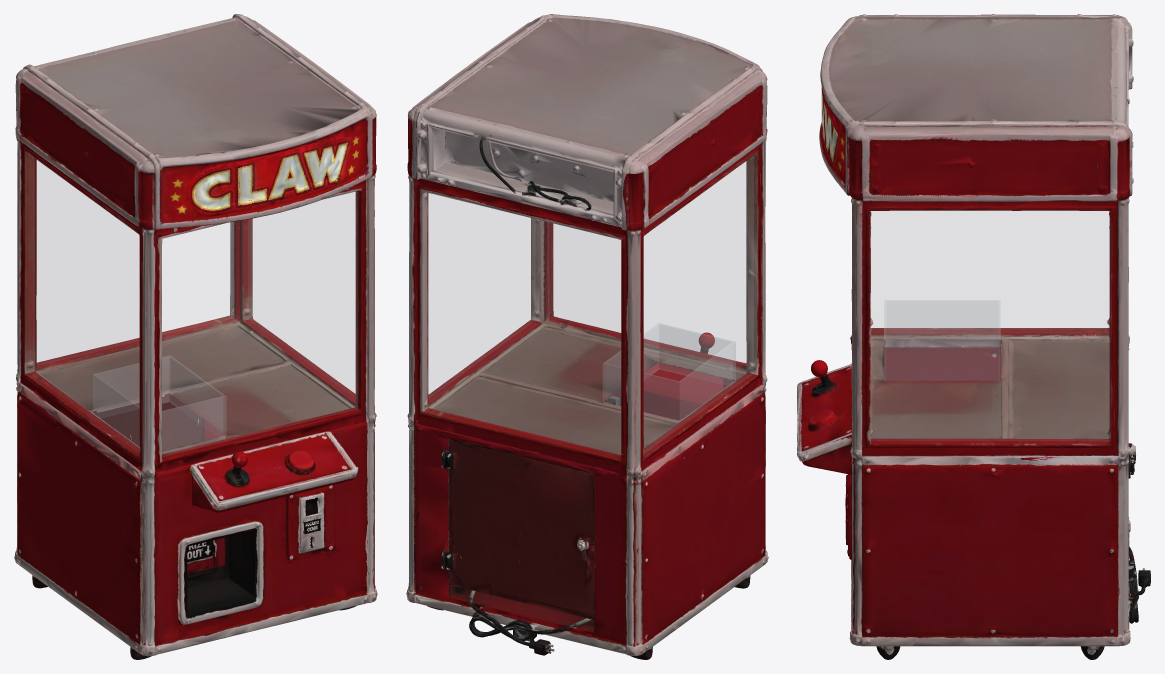
Rendered from cabinet.min.glb.
The picture shows the model from 3 angles, left to right: view 1: azimuth 30°, elevation 25°; view 2: azimuth 150°, elevation 25°; view 3: azimuth 270°, elevation 25°; orthographic projection. The views are drawn at different scales.
Visible parts, largest first — view 1: vidrio_frente, tripo_part_2, tripo_part_1, vidrio_izquierda, tripo_part_10, tripo_part_4, tripo_part_8, tripo_part_34, vidrio_buzon, tripo_part_31, tripo_part_18, tripo_part_33 (+26 smaller); view 2: vidrio_atras, tripo_part_1, tripo_part_2, vidrio_izquierda, tripo_part_25, tripo_part_8, vidrio_buzon, tripo_part_4, tripo_part_34, tripo_part_5, tripo_part_18, tripo_part_70 (+30 smaller); view 3: tripo_part_6, vidrio_derecha, tripo_part_2, tripo_part_11, tripo_part_14, vidrio_buzon, tripo_part_34, tripo_part_18, tripo_part_1, tripo_part_31, tripo_part_0, tripo_part_28 (+15 smaller).
Part boxes in pixels (x1,y1,x2,y2): vidrio_frente: (162, 191, 357, 456); tripo_part_2: (37, 19, 372, 230); tripo_part_1: (15, 138, 158, 646); vidrio_izquierda: (29, 155, 138, 452); tripo_part_10: (155, 421, 368, 644); tripo_part_4: (21, 142, 367, 472); tripo_part_8: (15, 67, 160, 230); tripo_part_34: (39, 325, 282, 399); vidrio_buzon: (93, 355, 226, 450); tripo_part_31: (191, 432, 358, 512); tripo_part_18: (162, 365, 350, 454); tripo_part_33: (179, 520, 264, 624); vidrio_atras: (427, 193, 620, 455); tripo_part_1: (619, 230, 767, 646); tripo_part_2: (428, 14, 759, 155); vidrio_izquierda: (644, 156, 753, 452); tripo_part_25: (449, 447, 602, 619); tripo_part_8: (628, 66, 767, 231); vidrio_buzon: (603, 323, 735, 419); tripo_part_4: (543, 144, 762, 471); tripo_part_34: (433, 379, 659, 454); tripo_part_5: (415, 424, 602, 626); tripo_part_18: (483, 324, 744, 401); tripo_part_70: (451, 466, 521, 572); tripo_part_6: (850, 446, 1119, 637); vidrio_derecha: (871, 211, 1108, 440); tripo_part_2: (819, 14, 1114, 195); tripo_part_11: (846, 126, 1113, 200); tripo_part_14: (851, 198, 1129, 635); vidrio_buzon: (884, 300, 1000, 380); tripo_part_34: (1015, 338, 1109, 438); tripo_part_18: (870, 339, 998, 438); tripo_part_1: (850, 89, 1129, 520); tripo_part_31: (797, 364, 851, 474); tripo_part_0: (849, 520, 1130, 646); tripo_part_28: (968, 126, 1130, 201).
Size of the model in its own units: 0.4789 by 0.9824 by 0.5882.
Materials: 85 (82 with a texture image).
